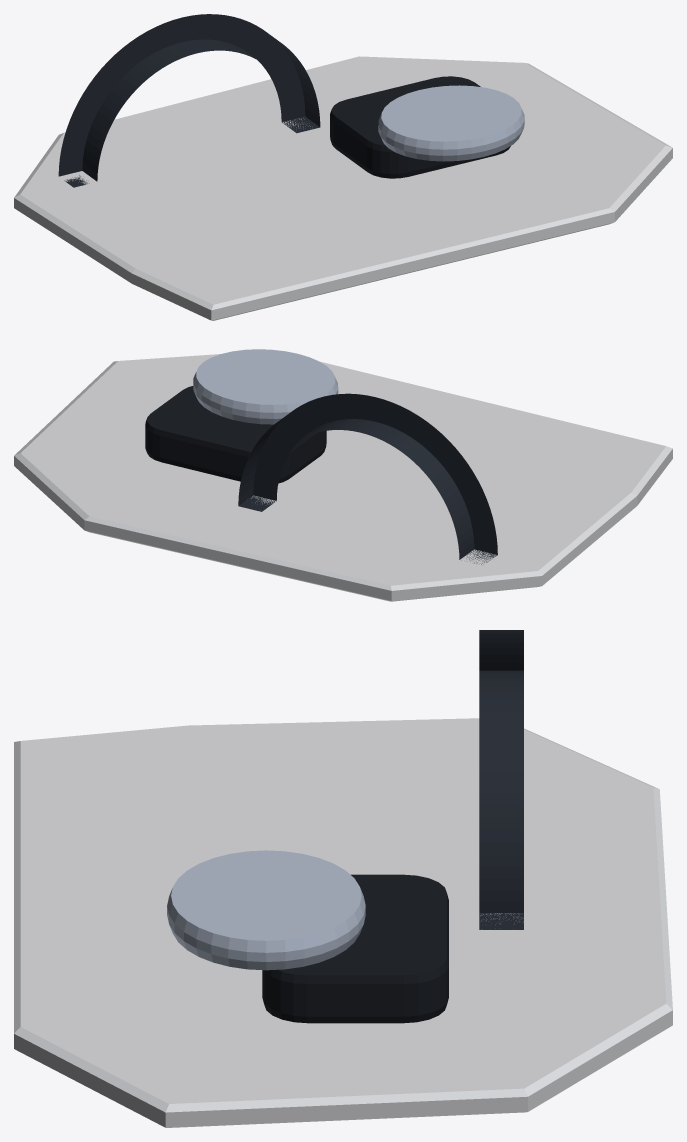
The model's file is chapter-privacy-v2.glb.
The picture shows the model from 3 angles, top to bottom: view 1: azimuth 30°, elevation 25°; view 2: azimuth 150°, elevation 25°; view 3: azimuth 270°, elevation 25°; orthographic projection. The views are drawn at different scales.
Parts seen in each view (by area): view 1: privacy-porcelain-ground, privacy-open-threshold, privacy-focus-disc, privacy-single-surface; view 2: privacy-porcelain-ground, privacy-open-threshold, privacy-focus-disc, privacy-single-surface; view 3: privacy-porcelain-ground, privacy-focus-disc, privacy-single-surface, privacy-open-threshold.
Part boxes in pixels (x1,y1,x2,y2): privacy-porcelain-ground: [14, 56, 672, 320]; privacy-open-threshold: [58, 14, 320, 187]; privacy-focus-disc: [378, 85, 524, 161]; privacy-single-surface: [330, 76, 510, 178]; privacy-porcelain-ground: [14, 354, 672, 601]; privacy-open-threshold: [238, 393, 497, 564]; privacy-focus-disc: [193, 349, 338, 424]; privacy-single-surface: [145, 386, 326, 483]; privacy-porcelain-ground: [14, 718, 672, 1127]; privacy-focus-disc: [167, 850, 365, 970]; privacy-single-surface: [262, 874, 448, 1023]; privacy-open-threshold: [479, 630, 523, 929].
Size of the model in its own units: 4.6 by 1.17 by 3.25.
